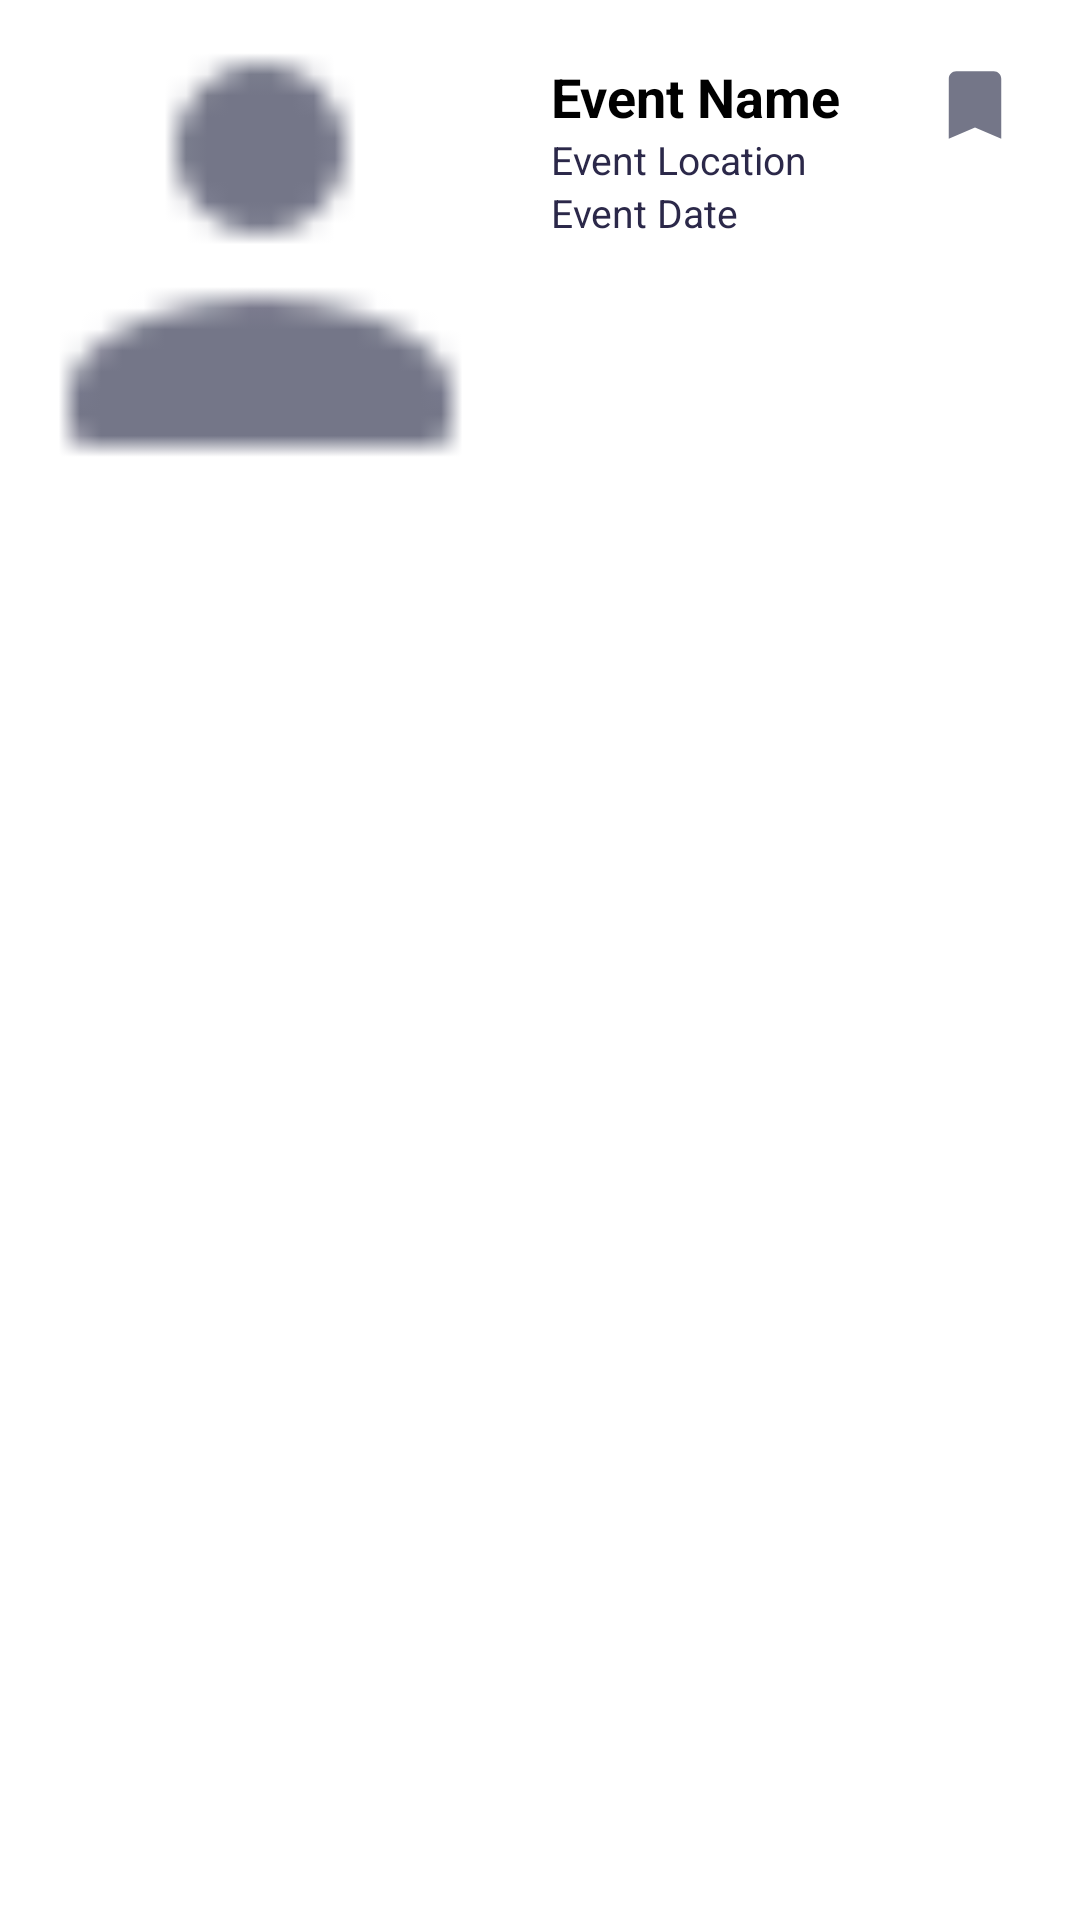

Locate icon controls on the screen. Image size 1080 x 1920, boxes as (x1, y1, x2, y2).
bookmark: (948, 71, 1002, 139)
